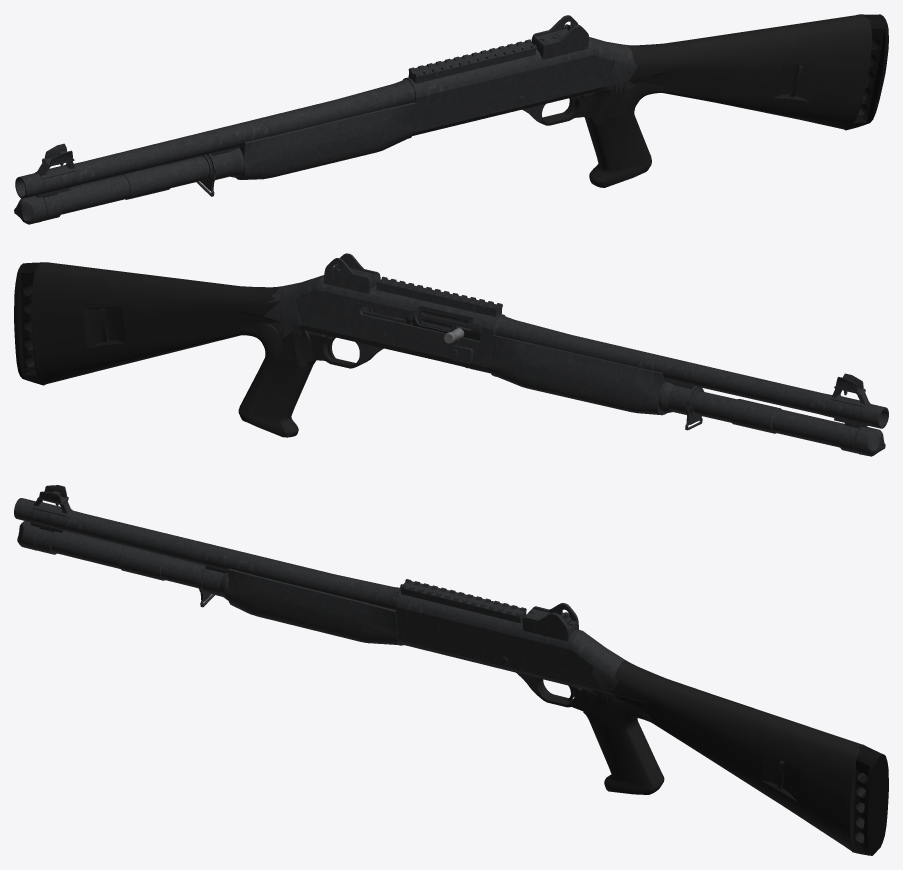
The picture shows the model from 3 angles, top to bottom: view 1: azimuth 30°, elevation 25°; view 2: azimuth 150°, elevation 25°; view 3: azimuth 330°, elevation 25°; orthographic projection. The views are drawn at different scales.
Visible parts, largest first — view 1: m1014; view 2: m1014; view 3: m1014.
Part boxes in pixels (bbox=[...]): m1014: bbox=[14, 14, 888, 224]; m1014: bbox=[14, 253, 888, 456]; m1014: bbox=[14, 485, 888, 855].
Bounding box in the file's own units: 1 × 0.2087 × 0.0654.
Materials: 4 (4 with a texture image).
